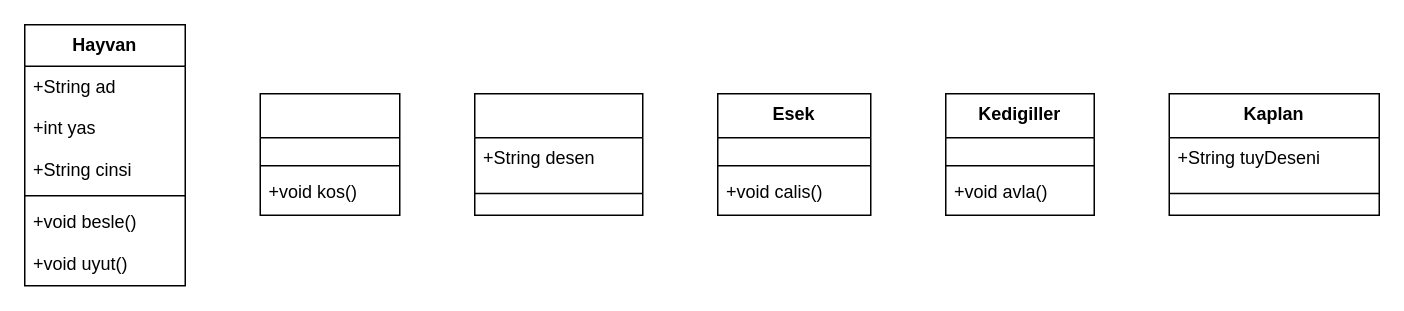
The diagram is 1404 pixels wide and 311 high, and some of its shapes have lost their labels. Here are the shapes that lost their labels. From the top down, the box of each, then its label:
(259, 92, 400, 215): Atlar
(473, 92, 643, 215): Zebra
